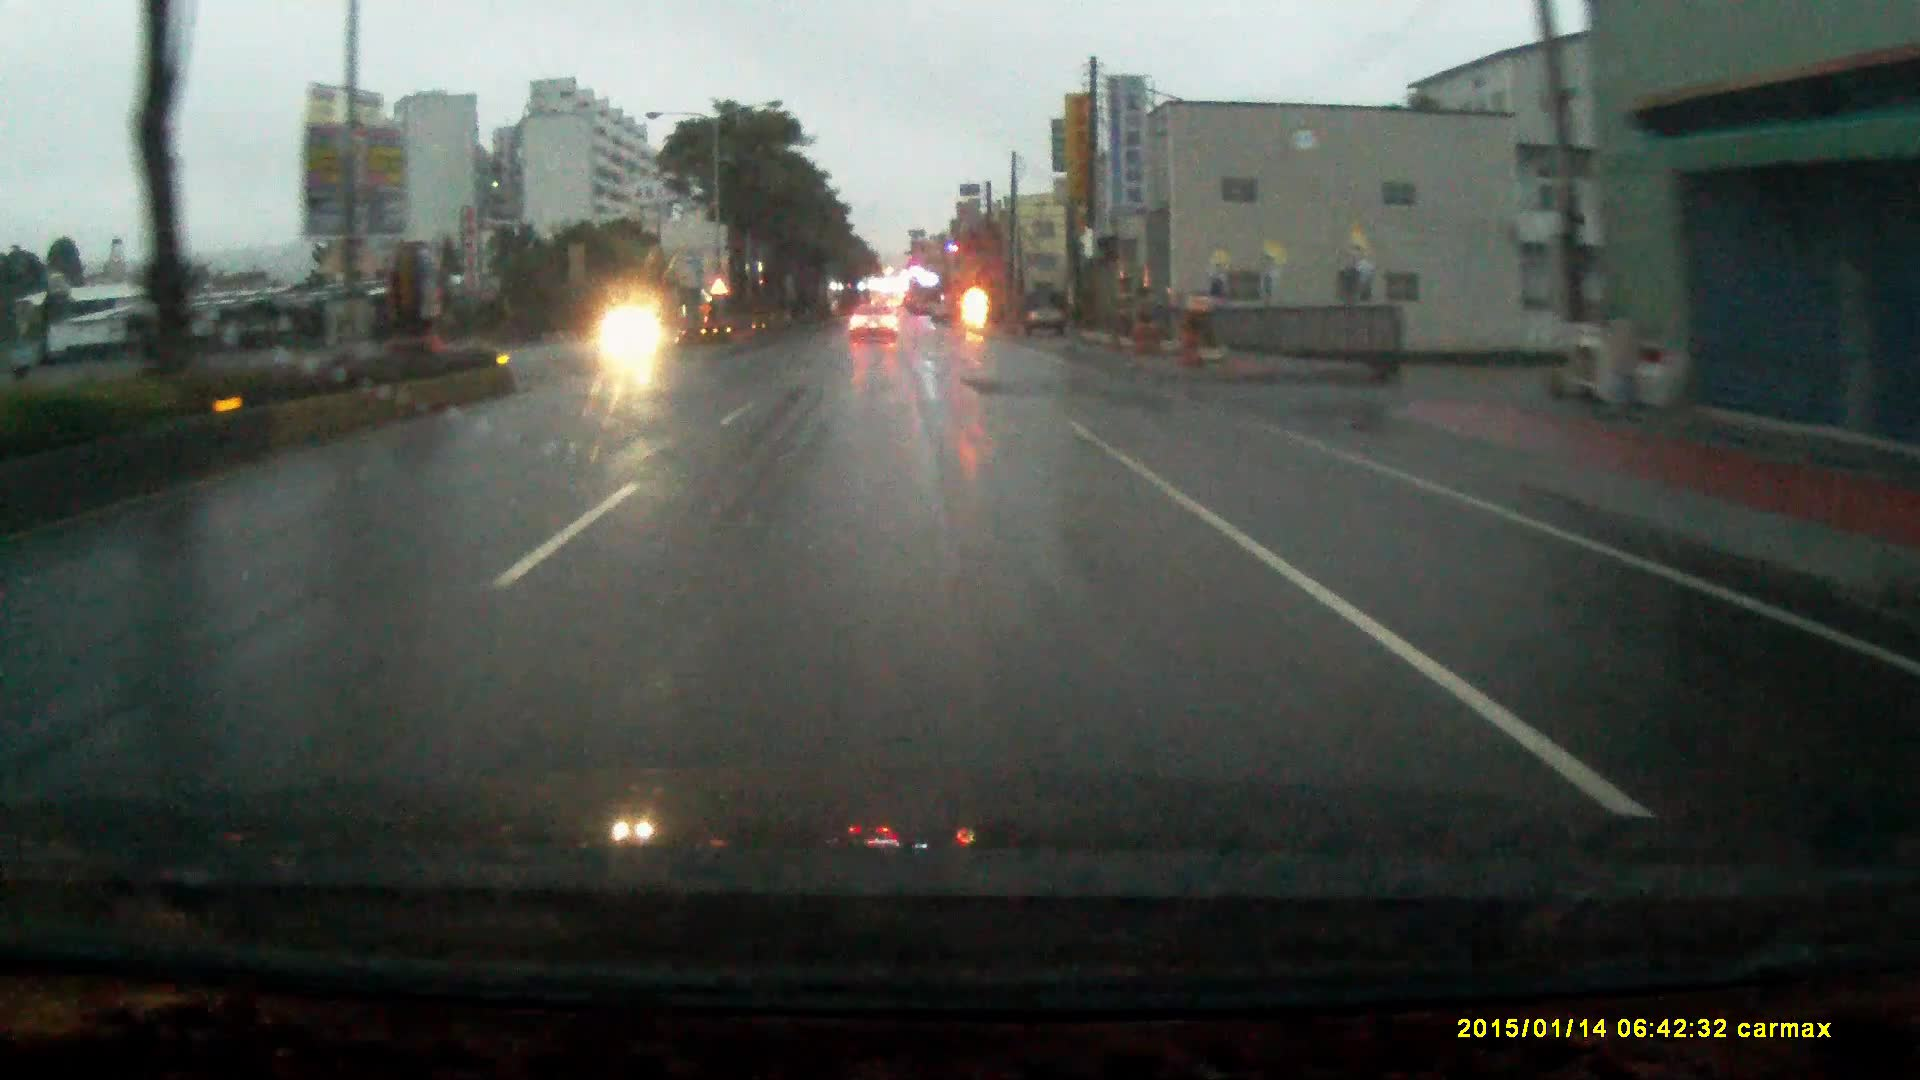vehicle: (847, 297, 898, 334), (1025, 287, 1063, 334)
